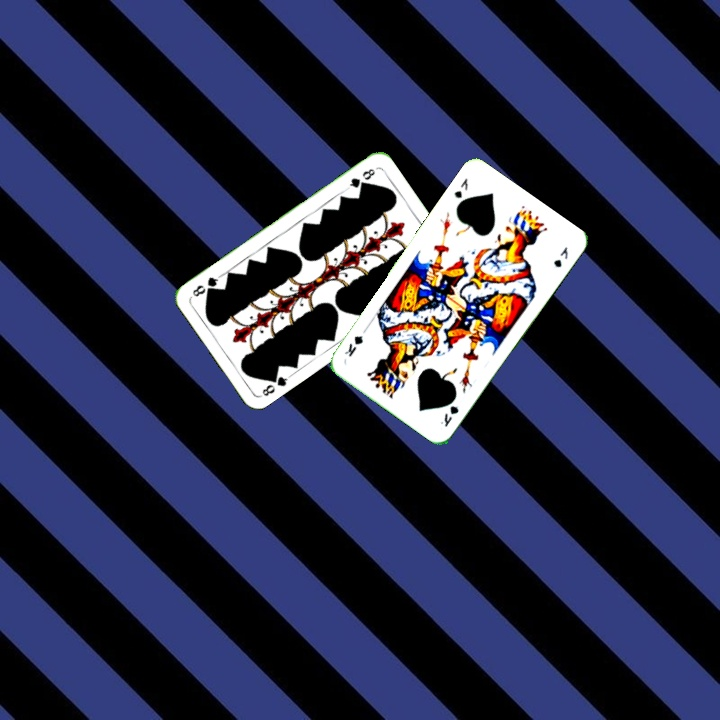G8: (257, 369, 293, 399), (343, 164, 378, 192)
GK: (436, 401, 461, 430), (450, 174, 471, 201)
